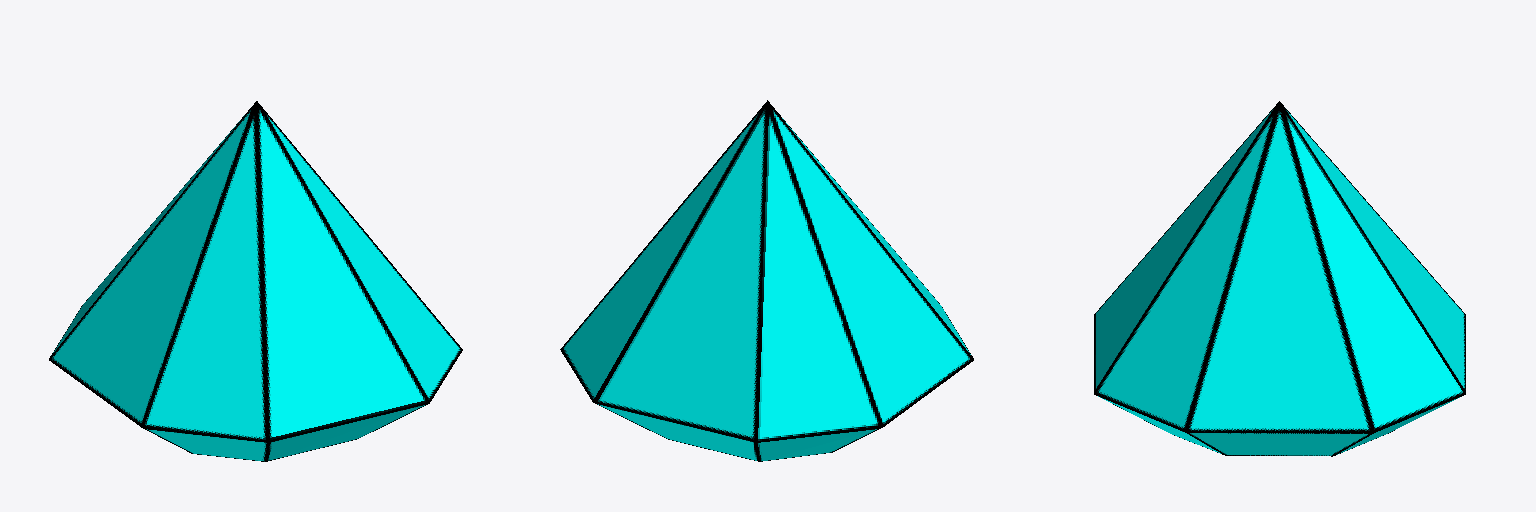
The picture shows the model from 3 angles: view 1: azimuth 30°, elevation 25°; view 2: azimuth 150°, elevation 25°; view 3: azimuth 270°, elevation 25°; orthographic projection.
Size of the model in its own units: 0.3984 by 0.3675 by 0.3996.
Materials: 3 (1 with a texture image).